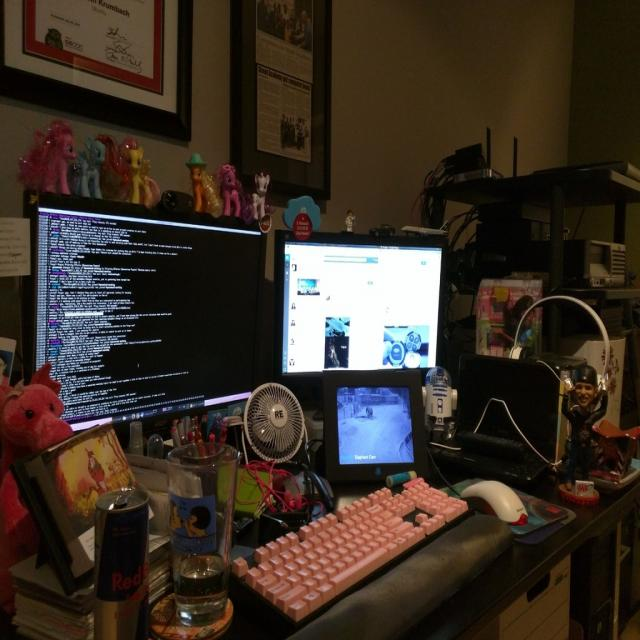desk: (4, 433, 638, 632)
keyboard: (229, 473, 470, 636)
mouse: (461, 479, 528, 526)
tv: (28, 192, 270, 442), (271, 231, 450, 402), (322, 368, 430, 488)
